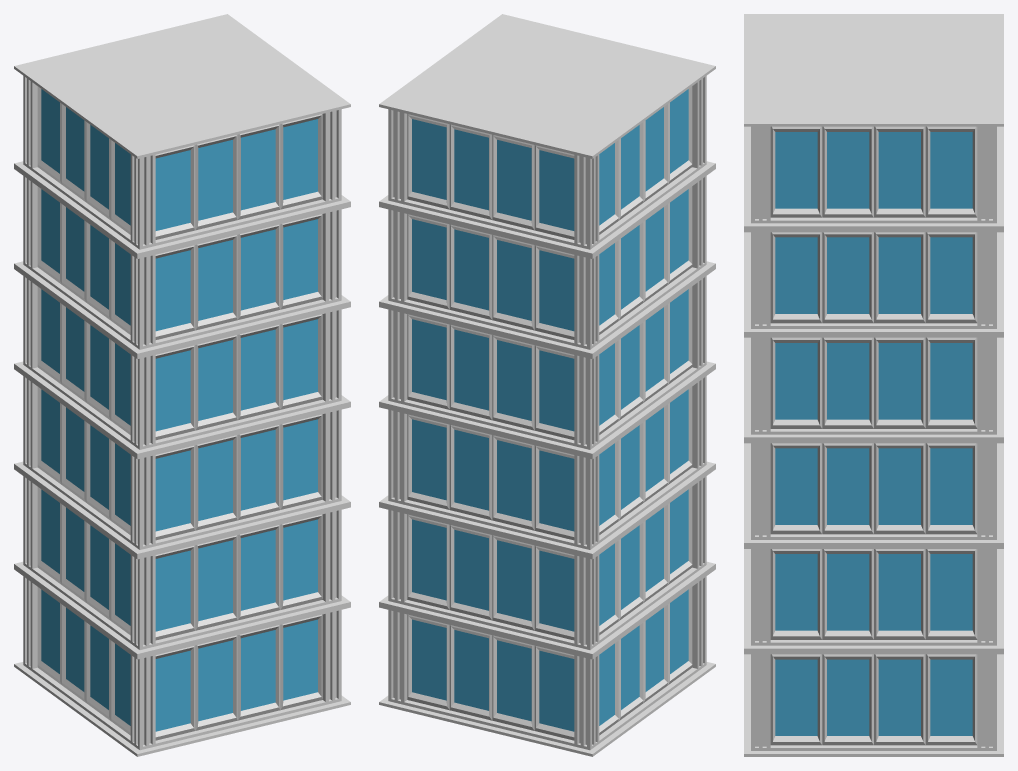
The model's file is building2.fbx.
3 views of the same model, side by side, from view 1: azimuth 30°, elevation 25°; view 2: azimuth 150°, elevation 25°; view 3: azimuth 270°, elevation 25° (orthographic). The views are drawn at different scales.
Parts seen in each view (by area): view 1: Cube.128, Cube.090, Cube.024, Cube.046, Cube.068, Cube.112, Cube.002, Cube.076, Cube.010, Cube.120, Cube.032, Cube.054 (+66 smaller); view 2: Cube.128, Cube.090, Cube.024, Cube.046, Cube.068, Cube.112, Cube.002, Cube.080, Cube.014, Cube.124, Cube.036, Cube.058 (+66 smaller); view 3: Cube.128, Cube.003, Cube.004, Cube.047, Cube.048, Cube.069, Cube.070, Cube.091, Cube.092, Cube.113, Cube.114, Cube.025 (+36 smaller).
Part boxes in pixels (left/top/right/bottom): Cube.128: left=14, top=14, right=350, bottom=158; Cube.090: left=14, top=261, right=350, bottom=356; Cube.024: left=14, top=561, right=350, bottom=656; Cube.046: left=14, top=461, right=350, bottom=556; Cube.068: left=14, top=361, right=350, bottom=456; Cube.112: left=14, top=161, right=350, bottom=256; Cube.002: left=14, top=662, right=350, bottom=756; Cube.076: left=237, top=324, right=280, bottom=420; Cube.010: left=237, top=625, right=280, bottom=720; Cube.120: left=237, top=124, right=280, bottom=219; Cube.032: left=237, top=525, right=280, bottom=620; Cube.054: left=237, top=424, right=280, bottom=520; Cube.128: left=379, top=14, right=715, bottom=158; Cube.090: left=379, top=261, right=715, bottom=356; Cube.024: left=379, top=561, right=715, bottom=656; Cube.046: left=379, top=461, right=715, bottom=556; Cube.068: left=379, top=361, right=715, bottom=456; Cube.112: left=379, top=161, right=715, bottom=256; Cube.002: left=379, top=662, right=715, bottom=756; Cube.080: left=449, top=324, right=492, bottom=420; Cube.014: left=449, top=625, right=492, bottom=720; Cube.124: left=449, top=124, right=492, bottom=219; Cube.036: left=449, top=525, right=492, bottom=620; Cube.058: left=449, top=424, right=492, bottom=520; Cube.128: left=744, top=14, right=1003, bottom=126; Cube.003: left=770, top=654, right=822, bottom=745; Cube.004: left=925, top=654, right=977, bottom=745; Cube.047: left=770, top=443, right=822, bottom=534; Cube.048: left=925, top=443, right=977, bottom=534; Cube.069: left=770, top=337, right=822, bottom=428; Cube.070: left=925, top=337, right=977, bottom=428; Cube.091: left=770, top=232, right=822, bottom=323; Cube.092: left=925, top=232, right=977, bottom=323; Cube.113: left=770, top=126, right=822, bottom=217; Cube.114: left=925, top=126, right=977, bottom=217; Cube.025: left=770, top=549, right=822, bottom=639.
Bounding box in the file's own units: 4018 × 10800 × 4018.
